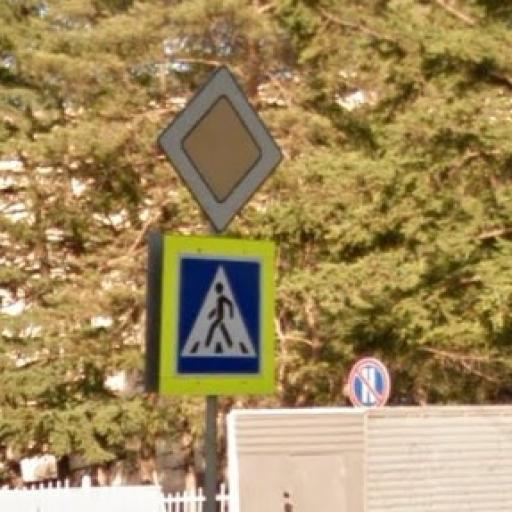traffic_sign: (158, 62, 286, 238), (153, 231, 281, 399)
